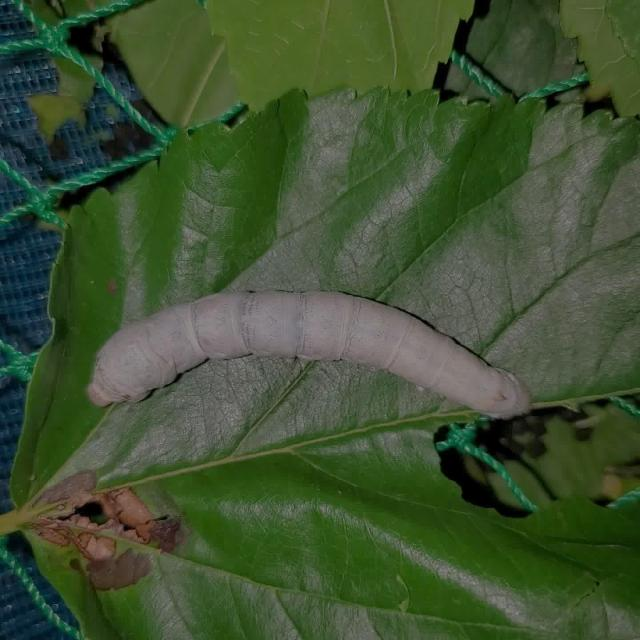Healthy: (73, 274, 544, 432)
